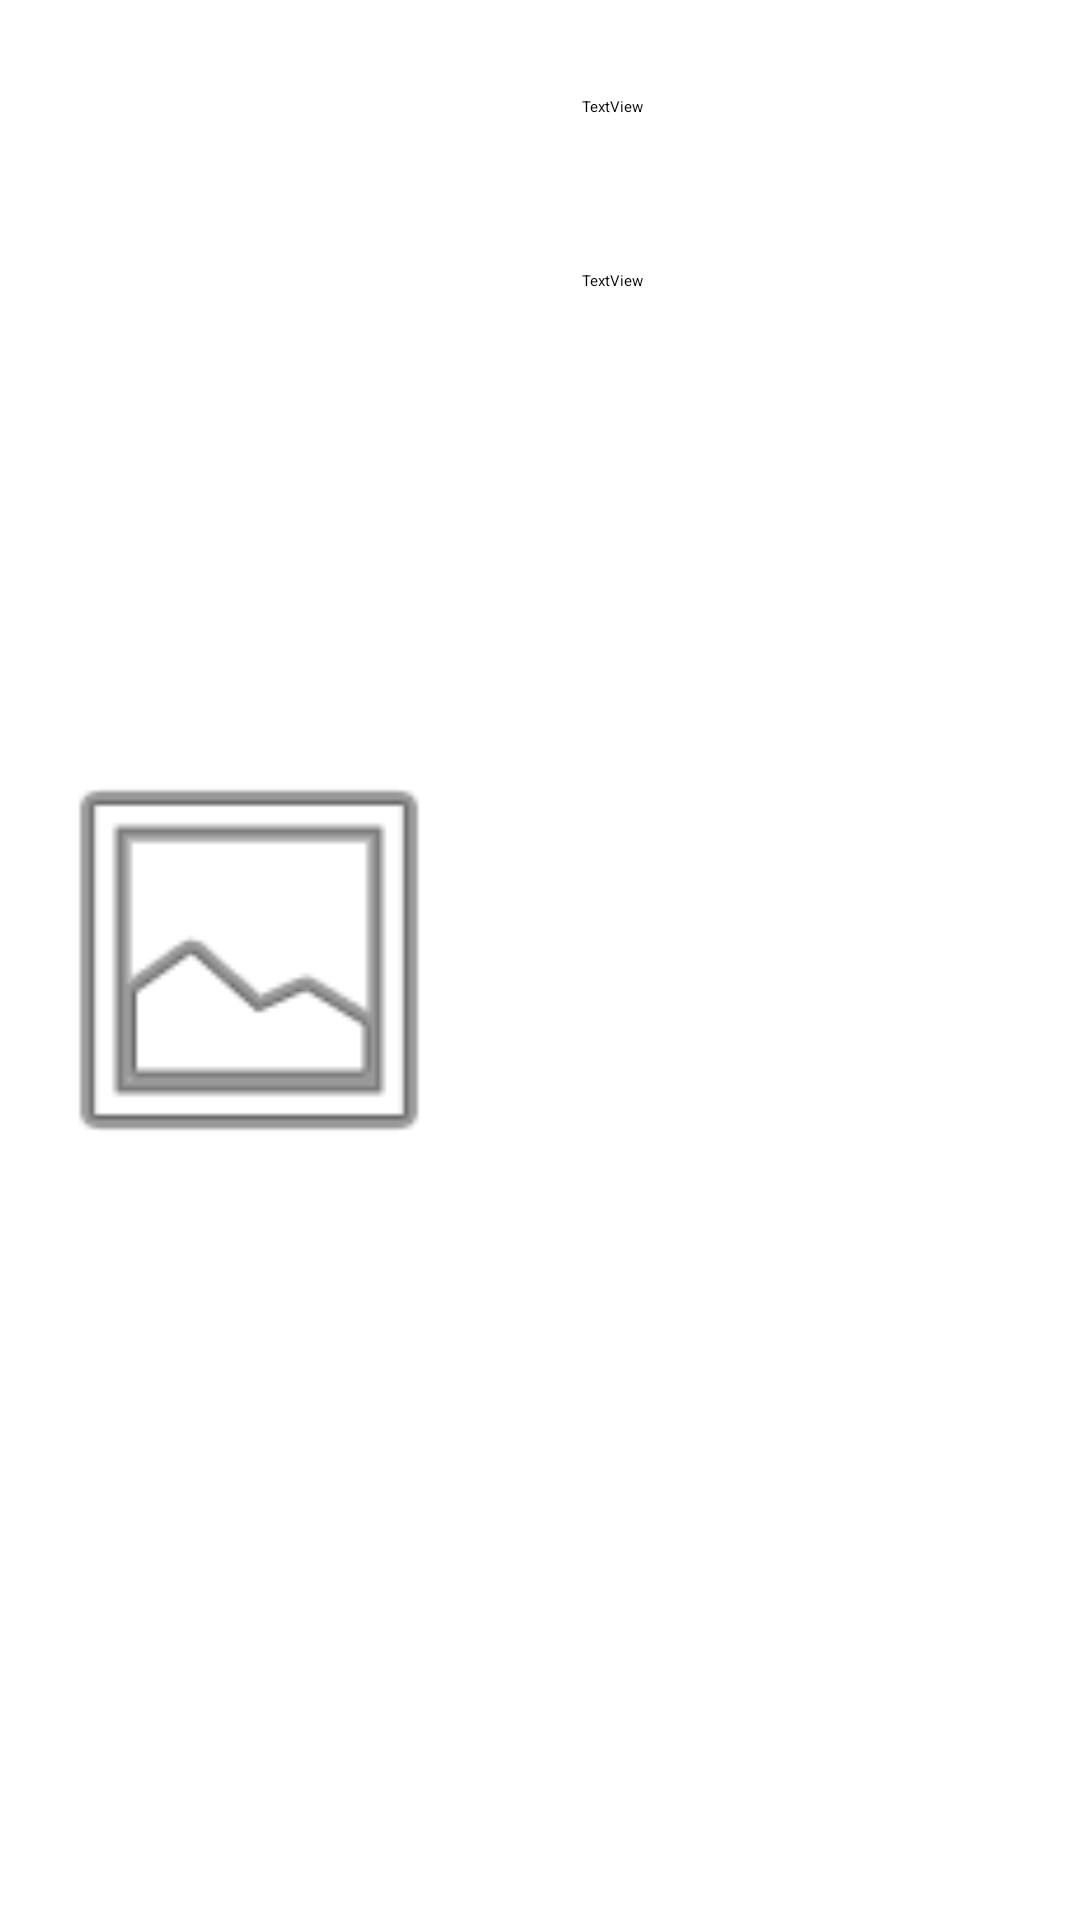

Named icons in this screenshot (1080px×1920px) and their centers, [x,y]:
gallery: [249,960]
